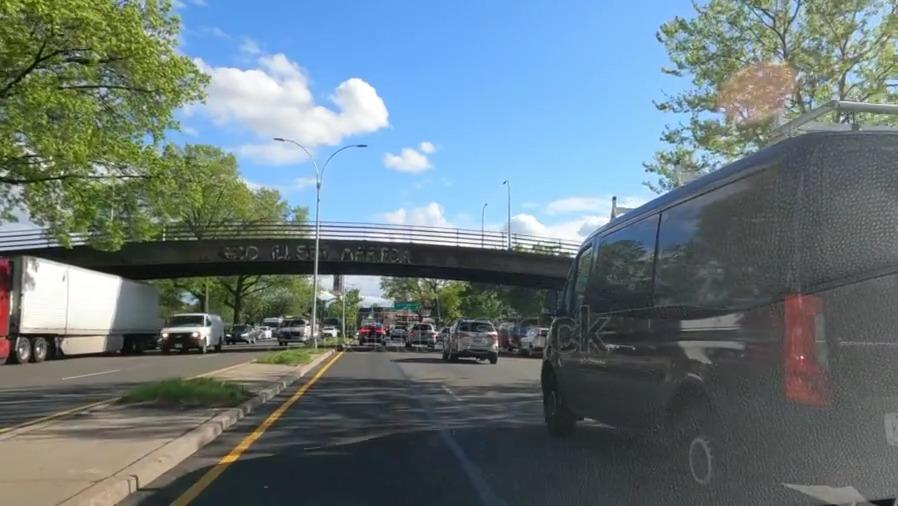car: (450, 320, 497, 362), (404, 323, 439, 354), (356, 319, 387, 351), (527, 323, 548, 357), (225, 322, 256, 345)
van: (551, 230, 898, 472), (162, 311, 224, 353), (279, 315, 308, 348)
wheel: (663, 396, 734, 504), (541, 369, 569, 435)
